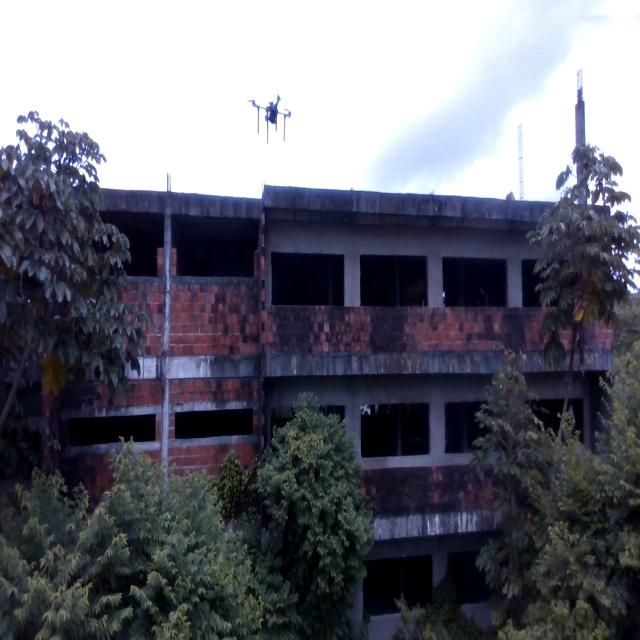-uav-: (244, 78, 298, 152)
